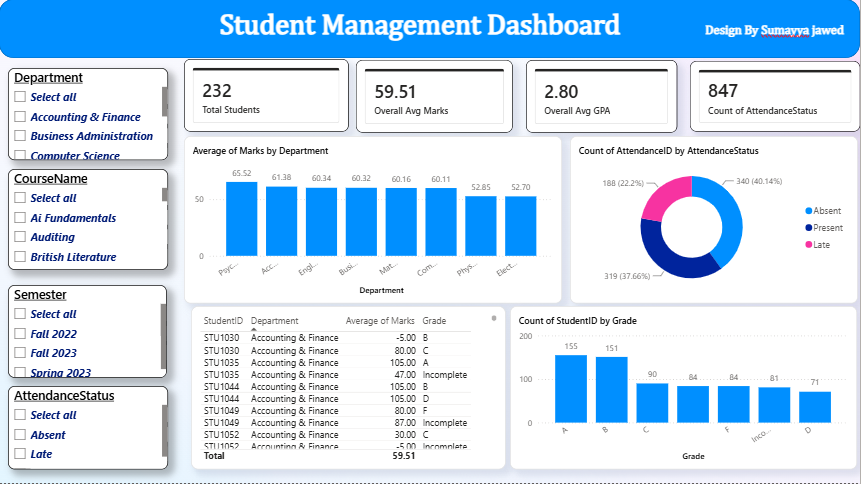

What the dashboard file says about the page in this screenshot:
{"tool":"powerbi","page":{"name":"Page 1","canvas":[1280,720],"ordinal":0},"visuals":[{"type":"cardVisual","fields":{"Data":["Students.Total Students"]},"box":[275,89.3,244.8,108],"z":0},{"type":"cardVisual","fields":{"Data":["Enrollments_Marks.Overall Avg Marks"]},"box":[531.4,90.7,233.3,108],"z":1000},{"type":"cardVisual","fields":{"Data":["Students.Overall Avg GPA"]},"box":[783.4,90.7,224.6,108],"z":2000},{"type":"cardVisual","fields":{"Data":["CountNonNull(Attendance.AttendanceStatus)"]},"box":[1026.7,92.2,253.4,105.1],"z":3000},{"type":"slicer","fields":{"Values":["Courses.Department"]},"box":[13,102.2,237.6,136.8],"z":4000},{"type":"slicer","fields":{"Values":["Courses.CourseName"]},"box":[13,253.4,237.6,149.8],"z":5000},{"type":"slicer","fields":{"Values":["Enrollments_Marks.Semester"]},"box":[13,424.8,236.2,138.2],"z":6000},{"type":"slicer","fields":{"Values":["Attendance.AttendanceStatus"]},"box":[13,576,237.6,123.8],"z":7000},{"type":"clusteredColumnChart","fields":{"Category":["Courses.Department"],"Y":["Avg(Enrollments_Marks.Marks)"]},"box":[275,203,561.6,249.1],"z":8000},{"type":"donutChart","fields":{"Category":["Attendance.AttendanceStatus"],"Y":["CountNonNull(Attendance.AttendanceID)"]},"box":[848.2,203,427.7,249.1],"z":9000},{"type":"tableEx","fields":{"Values":["Students.StudentID","Students.Department","Avg(Enrollments_Marks.Marks)","Enrollments_Marks.Grade"]},"box":[285.1,456.5,468,243.4],"z":10000},{"type":"clusteredColumnChart","fields":{"Category":["Enrollments_Marks.Grade"],"Y":["CountNonNull(Enrollments_Marks.StudentID)"]},"box":[760.3,456.5,515.5,243.4],"z":11000},{"type":"shape","box":[0,0,1280.2,87.8],"z":12000},{"type":"textbox","box":[285.4,10.4,990.1,68.4],"z":12001}]}

Visuals, with their boxes in screenshot pixels (x1, y1, x2, y2), scaled from the page's 1280x720 canvas onto the 866x484 screenshot:
cardVisual - Students.Total Students: rect(186, 60, 352, 133)
cardVisual - Enrollments_Marks.Overall Avg Marks: rect(360, 61, 517, 134)
cardVisual - Students.Overall Avg GPA: rect(530, 61, 682, 134)
cardVisual - CountNonNull(Attendance.AttendanceStatus): rect(695, 62, 865, 133)
slicer - Courses.Department: rect(9, 69, 170, 161)
slicer - Courses.CourseName: rect(9, 170, 170, 271)
slicer - Enrollments_Marks.Semester: rect(9, 286, 169, 378)
slicer - Attendance.AttendanceStatus: rect(9, 387, 170, 470)
clusteredColumnChart - Courses.Department x Avg(Enrollments_Marks.Marks): rect(186, 136, 566, 304)
donutChart - Attendance.AttendanceStatus x CountNonNull(Attendance.AttendanceID): rect(574, 136, 863, 304)
tableEx - Students.StudentID x Students.Department: rect(193, 307, 510, 470)
clusteredColumnChart - Enrollments_Marks.Grade x CountNonNull(Enrollments_Marks.StudentID): rect(514, 307, 863, 470)
shape: rect(0, 0, 865, 59)
textbox: rect(193, 7, 863, 53)
